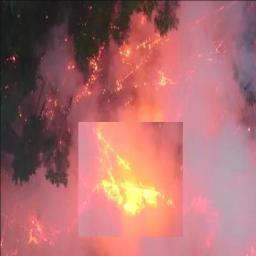Large fire: (7, 18, 181, 244)
Low smoke: (193, 30, 255, 251)
